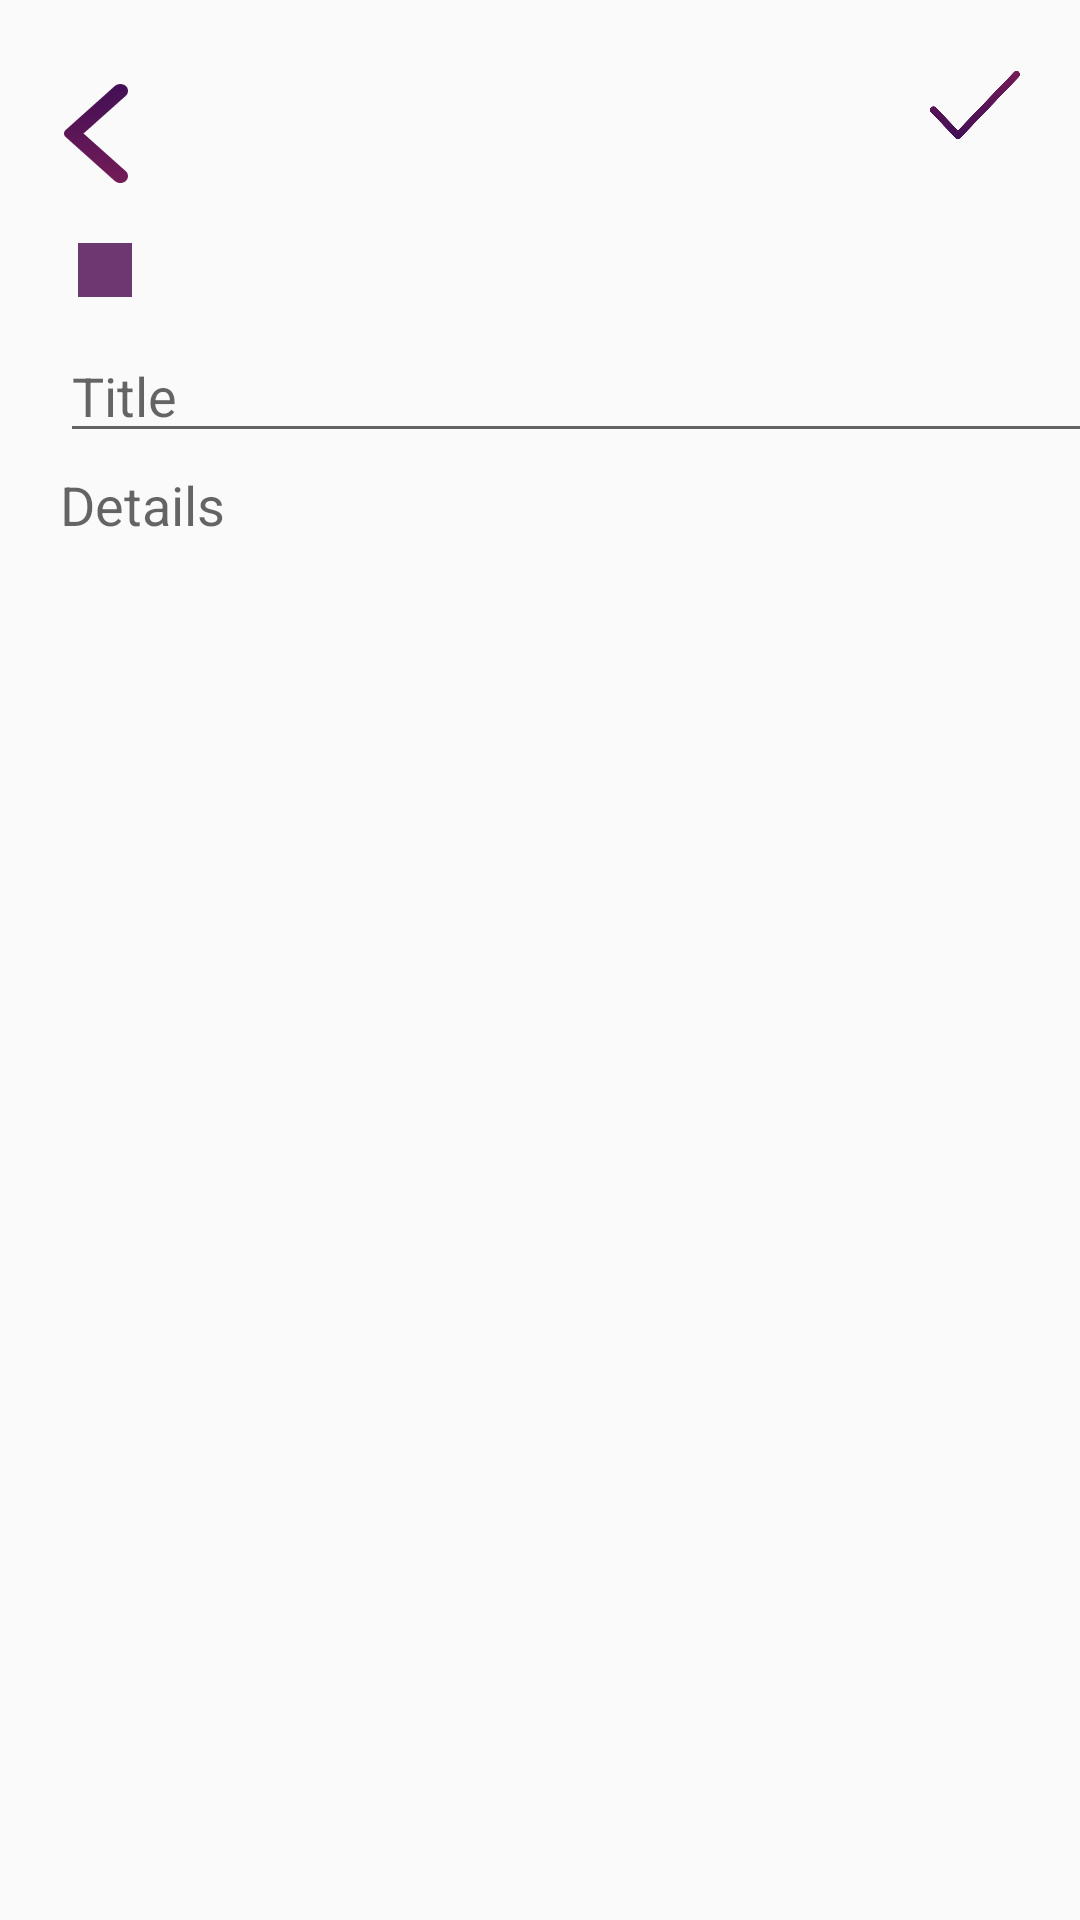

Icons on this 1080*1920 Android screen, each with its box as (x1, y1, x2, y2):
left back: (64, 84, 128, 183)
tick: (930, 71, 1020, 139)
